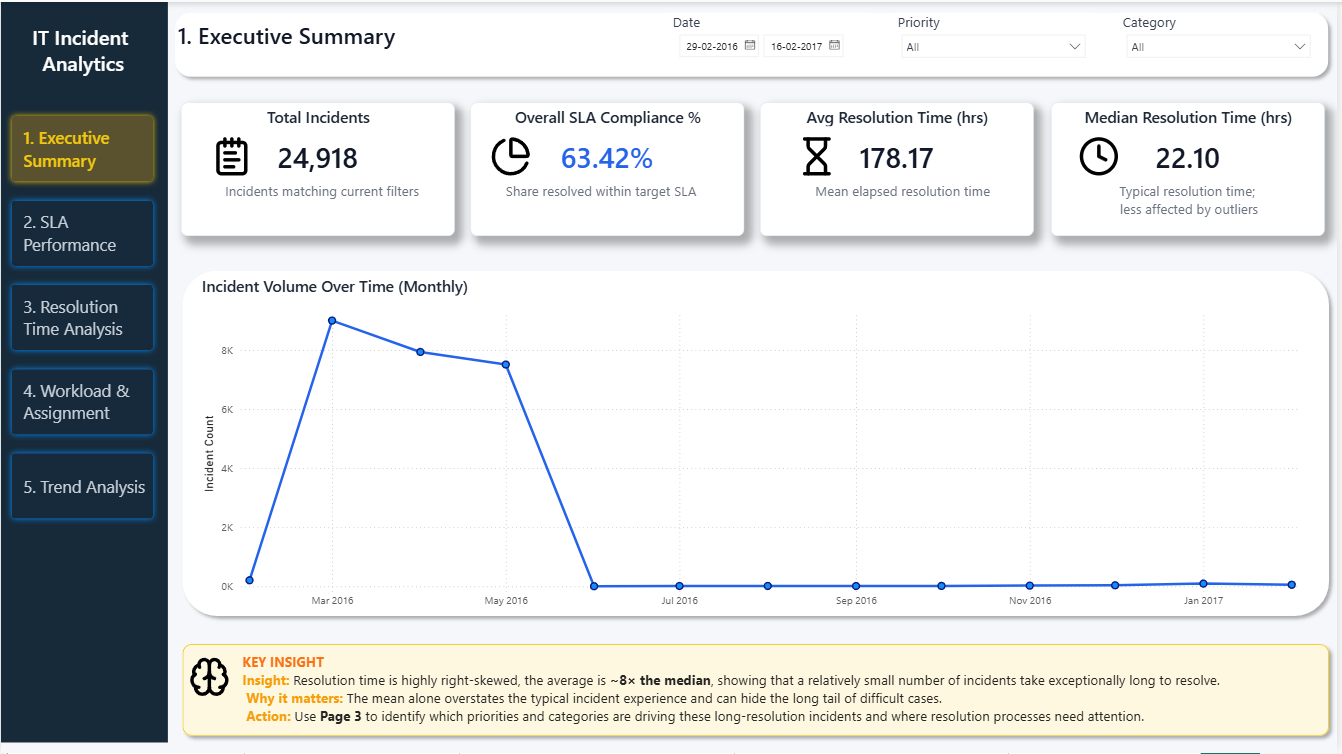

The dashboard page shown, as its layout file describes it:
{"tool":"powerbi","page":{"name":"1. Executive Summary","canvas":[1600,900],"ordinal":0},"visuals":[{"type":"shape","box":[200,5,1400,95],"z":0,"group":"g1"},{"type":"textbox","box":[576,215,288,27.8],"z":0,"group":"g4"},{"type":"textbox","box":[936,215,288,29.6],"z":0,"group":"g3"},{"type":"textbox","box":[1280,215,288,45],"z":0,"group":"g2"},{"type":"textbox","box":[240,215.3,288,25],"z":0,"group":"g5"},{"type":"shape","box":[208,312,1392,432],"z":0},{"type":"textbox","box":[288,780,1296,96],"z":0,"group":"g6"},{"type":"shape","box":[0,-12,200,900],"z":1000,"group":"g8"},{"type":"cardVisual","title":"Total Incidents","fields":{"Data":["_Measures.Total Incidents"]},"box":[215,120,328,160],"z":1000},{"type":"image","box":[250,160,50,50],"z":1000,"group":"g5"},{"type":"image","box":[586,160,50,50],"z":1000,"group":"g4"},{"type":"image","box":[952,160,50,50],"z":1000,"group":"g3"},{"type":"image","box":[1290,160,50,50],"z":1000,"group":"g2"},{"type":"image","box":[224,784,50,50],"z":1000,"group":"g6"},{"type":"cardVisual","title":"Overall SLA Compliance %","fields":{"Data":["_Measures.Overall SLA Compliance %"]},"box":[562.7,120,328,160],"z":2000},{"type":"cardVisual","title":"Avg Resolution Time (hrs)","fields":{"Data":["_Measures.Avg Resolution Hours"]},"box":[910.3,120,328,160],"z":3000},{"type":"cardVisual","title":"Median Resolution Time (hrs)","fields":{"Data":["_Measures.Median Resolution Hours"]},"box":[1258,120,328,160],"z":4000},{"type":"lineChart","title":"Incident Volume Over Time (Monthly)","fields":{"Category":["incidents.opened_at.Variation.Date Hierarchy.Year","incidents.opened_at.Variation.Date Hierarchy.Month"],"Y":["CountNonNull(incidents.number)"]},"box":[235,327,1340,408],"z":5000},{"type":"group","id":"g1","title":"Group 2","box":[200,5,1400,95],"z":7000,"group":"g7"},{"type":"slicer","title":"Date","fields":{"Values":["incidents.opened_at"]},"box":[800,14,240,65],"z":7000,"group":"g1"},{"type":"slicer","title":"Priority","fields":{"Values":["incidents.priority"]},"box":[1069.5,14,240,65],"z":8000,"group":"g1"},{"type":"shape","box":[208,760,1392,128],"z":8000,"group":"g9"},{"type":"slicer","title":"Category","fields":{"Values":["incidents.category"]},"box":[1339,14,240,65],"z":9000,"group":"g1"},{"type":"group","id":"g2","title":"Group 3","box":[1280,160,288,100],"z":9000},{"type":"textbox","box":[208,18,290,48],"z":10000,"group":"g1"},{"type":"group","id":"g3","title":"Group 3","box":[936,160,288,84.6],"z":10000},{"type":"textbox","box":[18,20,154,76],"z":11000,"group":"g8"},{"type":"group","id":"g4","title":"Group 3","box":[576,160,288,82.8],"z":11000},{"type":"pageNavigator","box":[6,130,184,500],"z":12000,"group":"g8"},{"type":"group","id":"g5","title":"Group 3","box":[240,160,288,80.3],"z":12000},{"type":"group","id":"g6","title":"Group 3","box":[224,780,1360,96],"z":13000,"group":"g9"},{"type":"group","id":"g7","title":"Group 6","box":[0,-12,1600,900],"z":13001},{"type":"group","id":"g8","title":"Group 4","box":[0,-12,200,900],"z":13001,"group":"g7"},{"type":"group","id":"g9","title":"Group 1","box":[208,760,1392,128],"z":13002}]}

Visuals, with their boxes in screenshot pixels (x1, y1, x2, y2), scaled from the page's 1600x900 canvas onto the 1342x754 screenshot:
shape: (left=168, top=4, right=1341, bottom=84)
textbox: (left=483, top=180, right=725, bottom=203)
textbox: (left=785, top=180, right=1027, bottom=205)
textbox: (left=1074, top=180, right=1315, bottom=218)
textbox: (left=201, top=180, right=443, bottom=201)
shape: (left=174, top=261, right=1341, bottom=623)
textbox: (left=242, top=653, right=1329, bottom=734)
shape: (left=0, top=0, right=168, bottom=744)
"Total Incidents" cardVisual: (left=180, top=101, right=455, bottom=235)
image: (left=210, top=134, right=252, bottom=176)
image: (left=492, top=134, right=533, bottom=176)
image: (left=798, top=134, right=840, bottom=176)
image: (left=1082, top=134, right=1124, bottom=176)
image: (left=188, top=657, right=230, bottom=699)
"Overall SLA Compliance %" cardVisual: (left=472, top=101, right=747, bottom=235)
"Avg Resolution Time (hrs)" cardVisual: (left=764, top=101, right=1039, bottom=235)
"Median Resolution Time (hrs)" cardVisual: (left=1055, top=101, right=1330, bottom=235)
"Incident Volume Over Time (Monthly)" lineChart: (left=197, top=274, right=1321, bottom=616)
"Group 2" group: (left=168, top=4, right=1341, bottom=84)
"Date" slicer: (left=671, top=12, right=872, bottom=66)
"Priority" slicer: (left=897, top=12, right=1098, bottom=66)
shape: (left=174, top=637, right=1341, bottom=744)
"Category" slicer: (left=1123, top=12, right=1324, bottom=66)
"Group 3" group: (left=1074, top=134, right=1315, bottom=218)
textbox: (left=174, top=15, right=418, bottom=55)
"Group 3" group: (left=785, top=134, right=1027, bottom=205)
textbox: (left=15, top=17, right=144, bottom=80)
"Group 3" group: (left=483, top=134, right=725, bottom=203)
pageNavigator: (left=5, top=109, right=159, bottom=528)
"Group 3" group: (left=201, top=134, right=443, bottom=201)
"Group 3" group: (left=188, top=653, right=1329, bottom=734)
"Group 6" group: (left=0, top=0, right=1341, bottom=744)
"Group 4" group: (left=0, top=0, right=168, bottom=744)
"Group 1" group: (left=174, top=637, right=1341, bottom=744)
